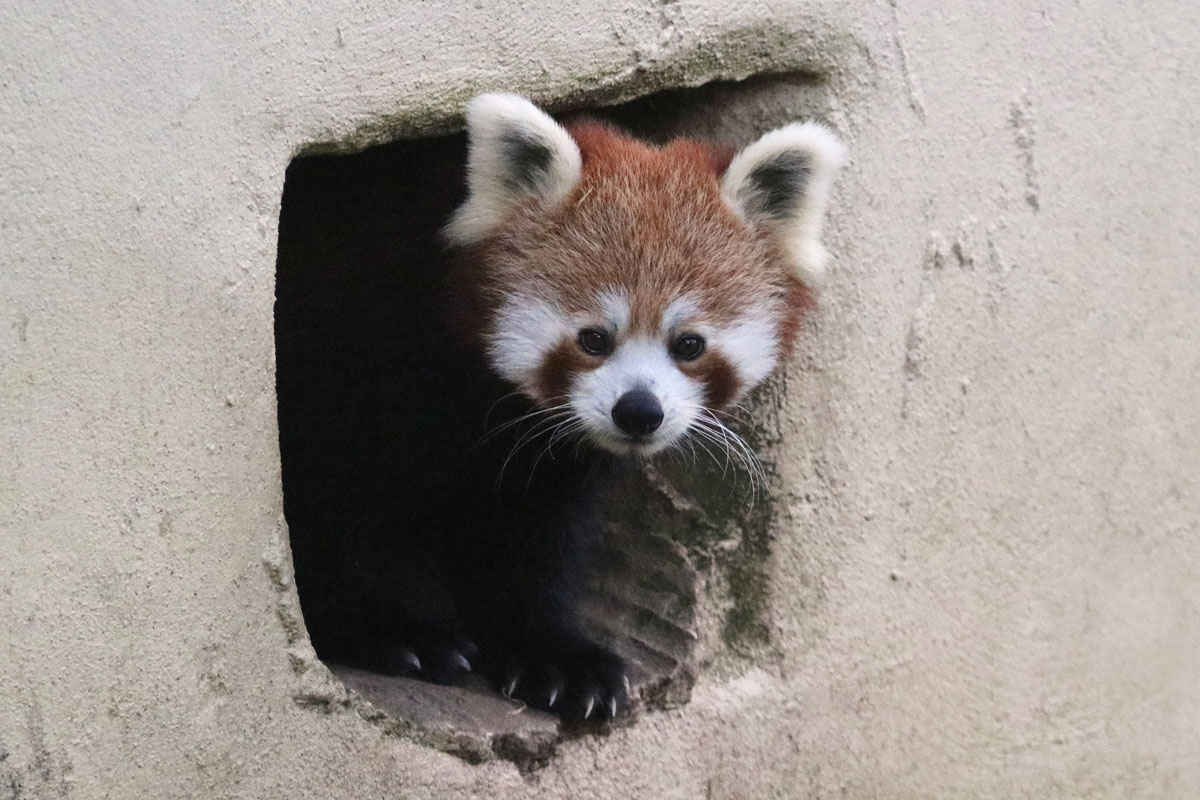red_panda: (353, 83, 830, 720)
